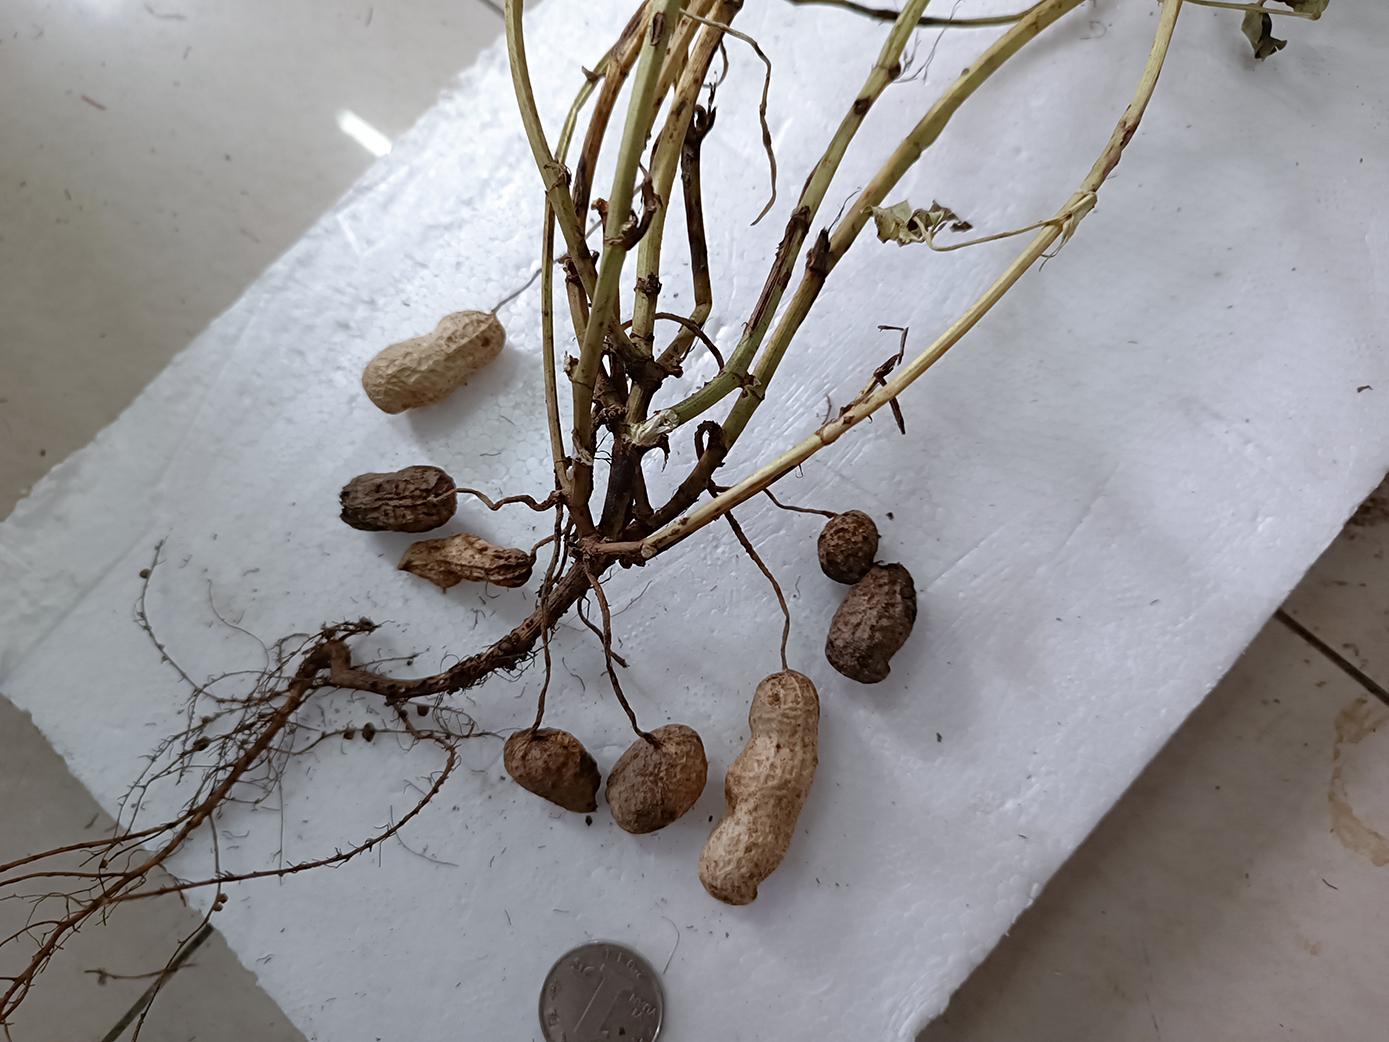h: (701, 671, 822, 905), (359, 309, 508, 416)
l: (604, 723, 709, 835), (824, 563, 915, 685), (503, 728, 600, 817), (340, 464, 458, 531), (396, 533, 529, 590), (818, 510, 880, 584)
